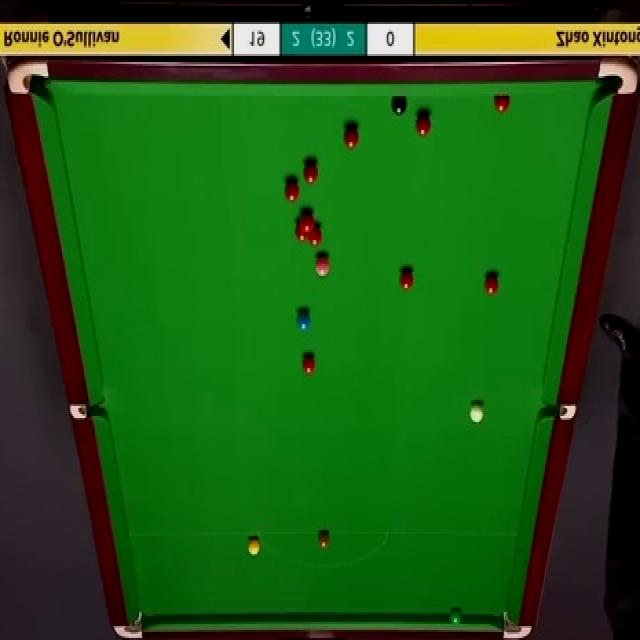black-ball: (392, 95, 408, 117)
blue-ball: (296, 311, 312, 332)
brown-ball: (318, 532, 330, 552)
green-ball: (450, 610, 463, 629)
pink-ball: (316, 251, 333, 278)
red-ball: (303, 160, 320, 189), (398, 267, 415, 294), (344, 123, 360, 151), (415, 110, 432, 136), (301, 350, 316, 376), (285, 180, 299, 207), (484, 271, 498, 296), (294, 218, 308, 242), (309, 222, 322, 246), (493, 97, 511, 114), (300, 210, 316, 229)
white-ball: (471, 403, 488, 425)
yellow-ball: (247, 538, 259, 554)
